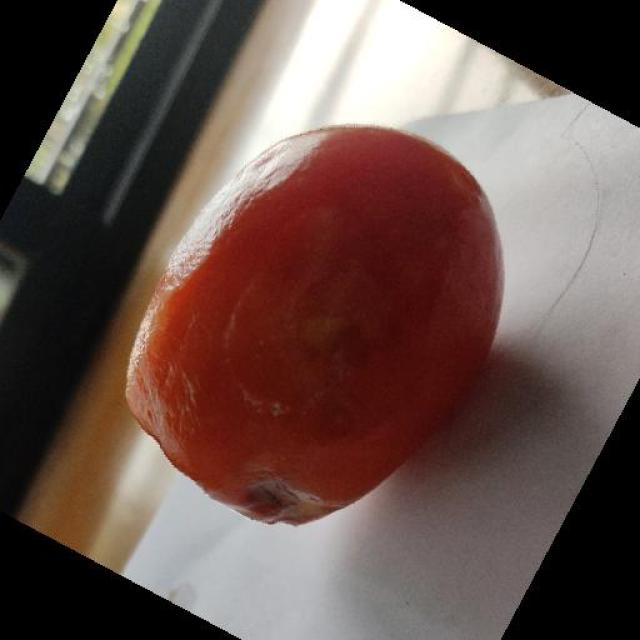Stale_tomato: (156, 109, 510, 524)
